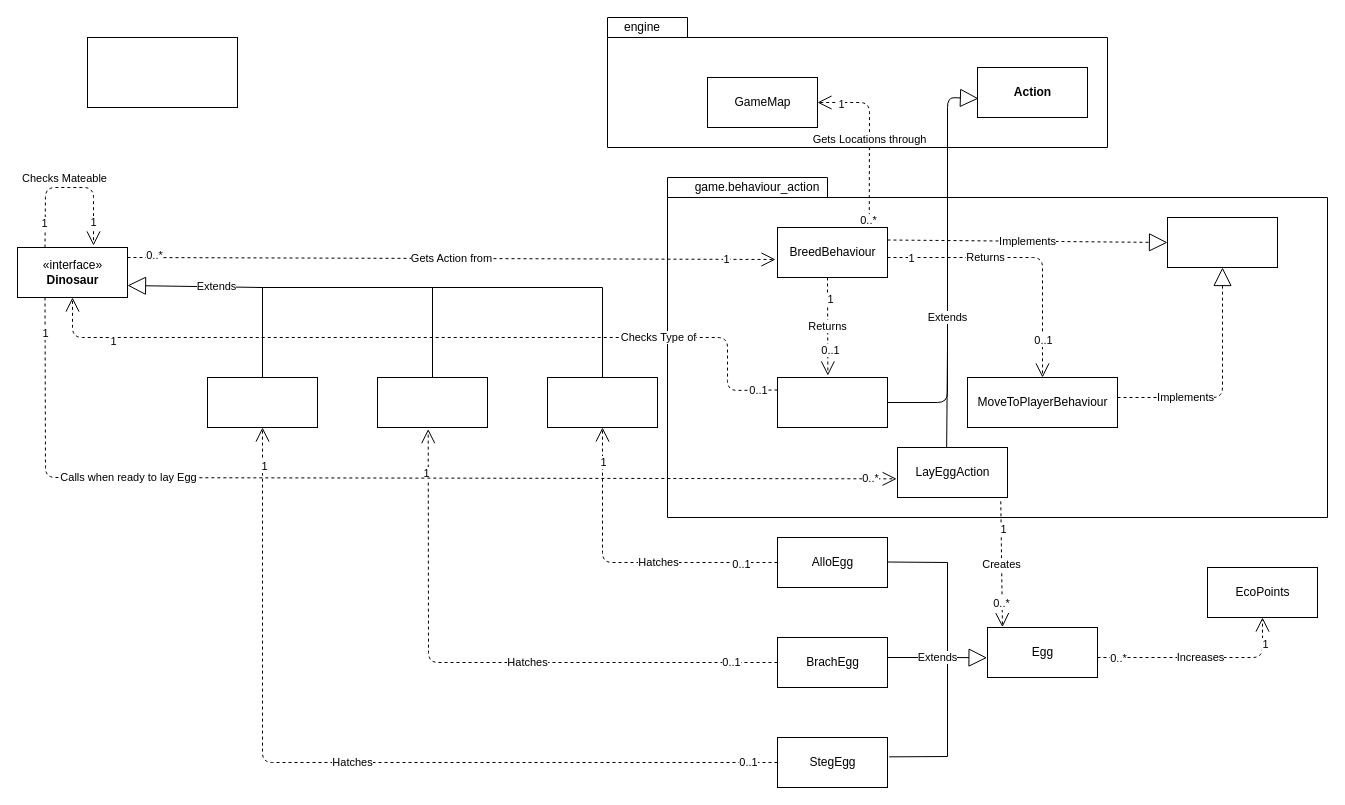
This 1345x805 diagram has some shape labels left out. Each missing label, with the centre of its shape:
"Allosaur" goes at pixel 602 402.
"Brachiosaur" goes at pixel 432 402.
"BreedAction" goes at pixel 832 402.
"Breeding Class Diagram" goes at pixel 162 72.
"Stegosaur" goes at pixel 262 402.
"«interface» Behaviour" goes at pixel 1222 242.
